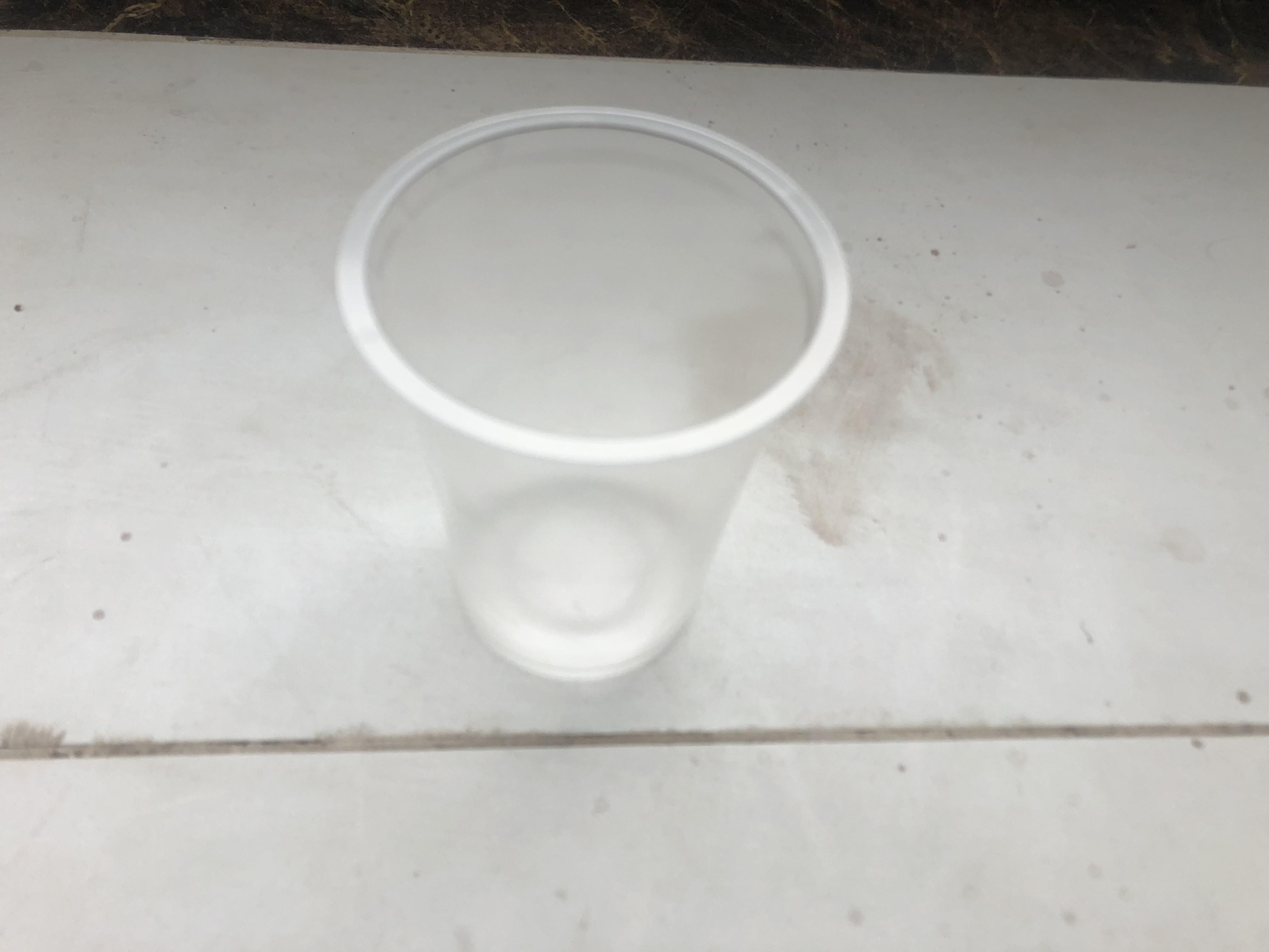cup-disposable: (334, 97, 857, 683)
